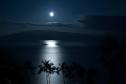moon: (48, 11, 55, 17)
